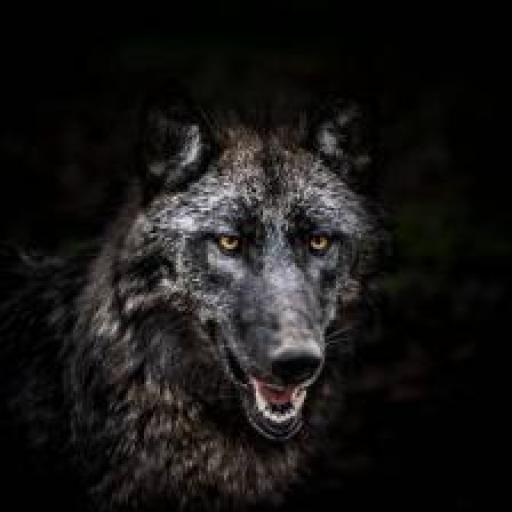wolf: (2, 0, 500, 512)
